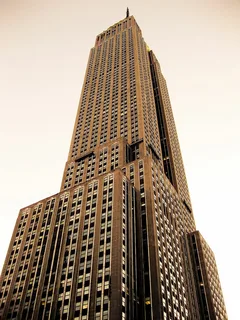high_rise_building: (26, 14, 216, 318)
